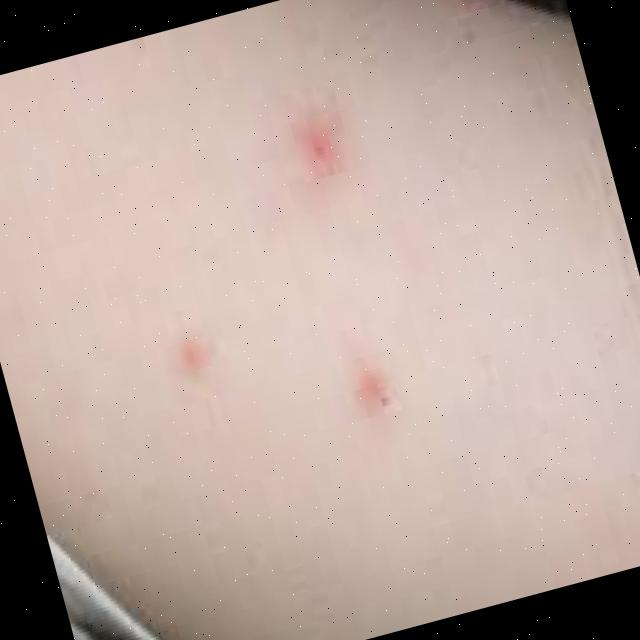kan emici bocekler: (297, 118, 344, 177), (351, 369, 391, 423)
